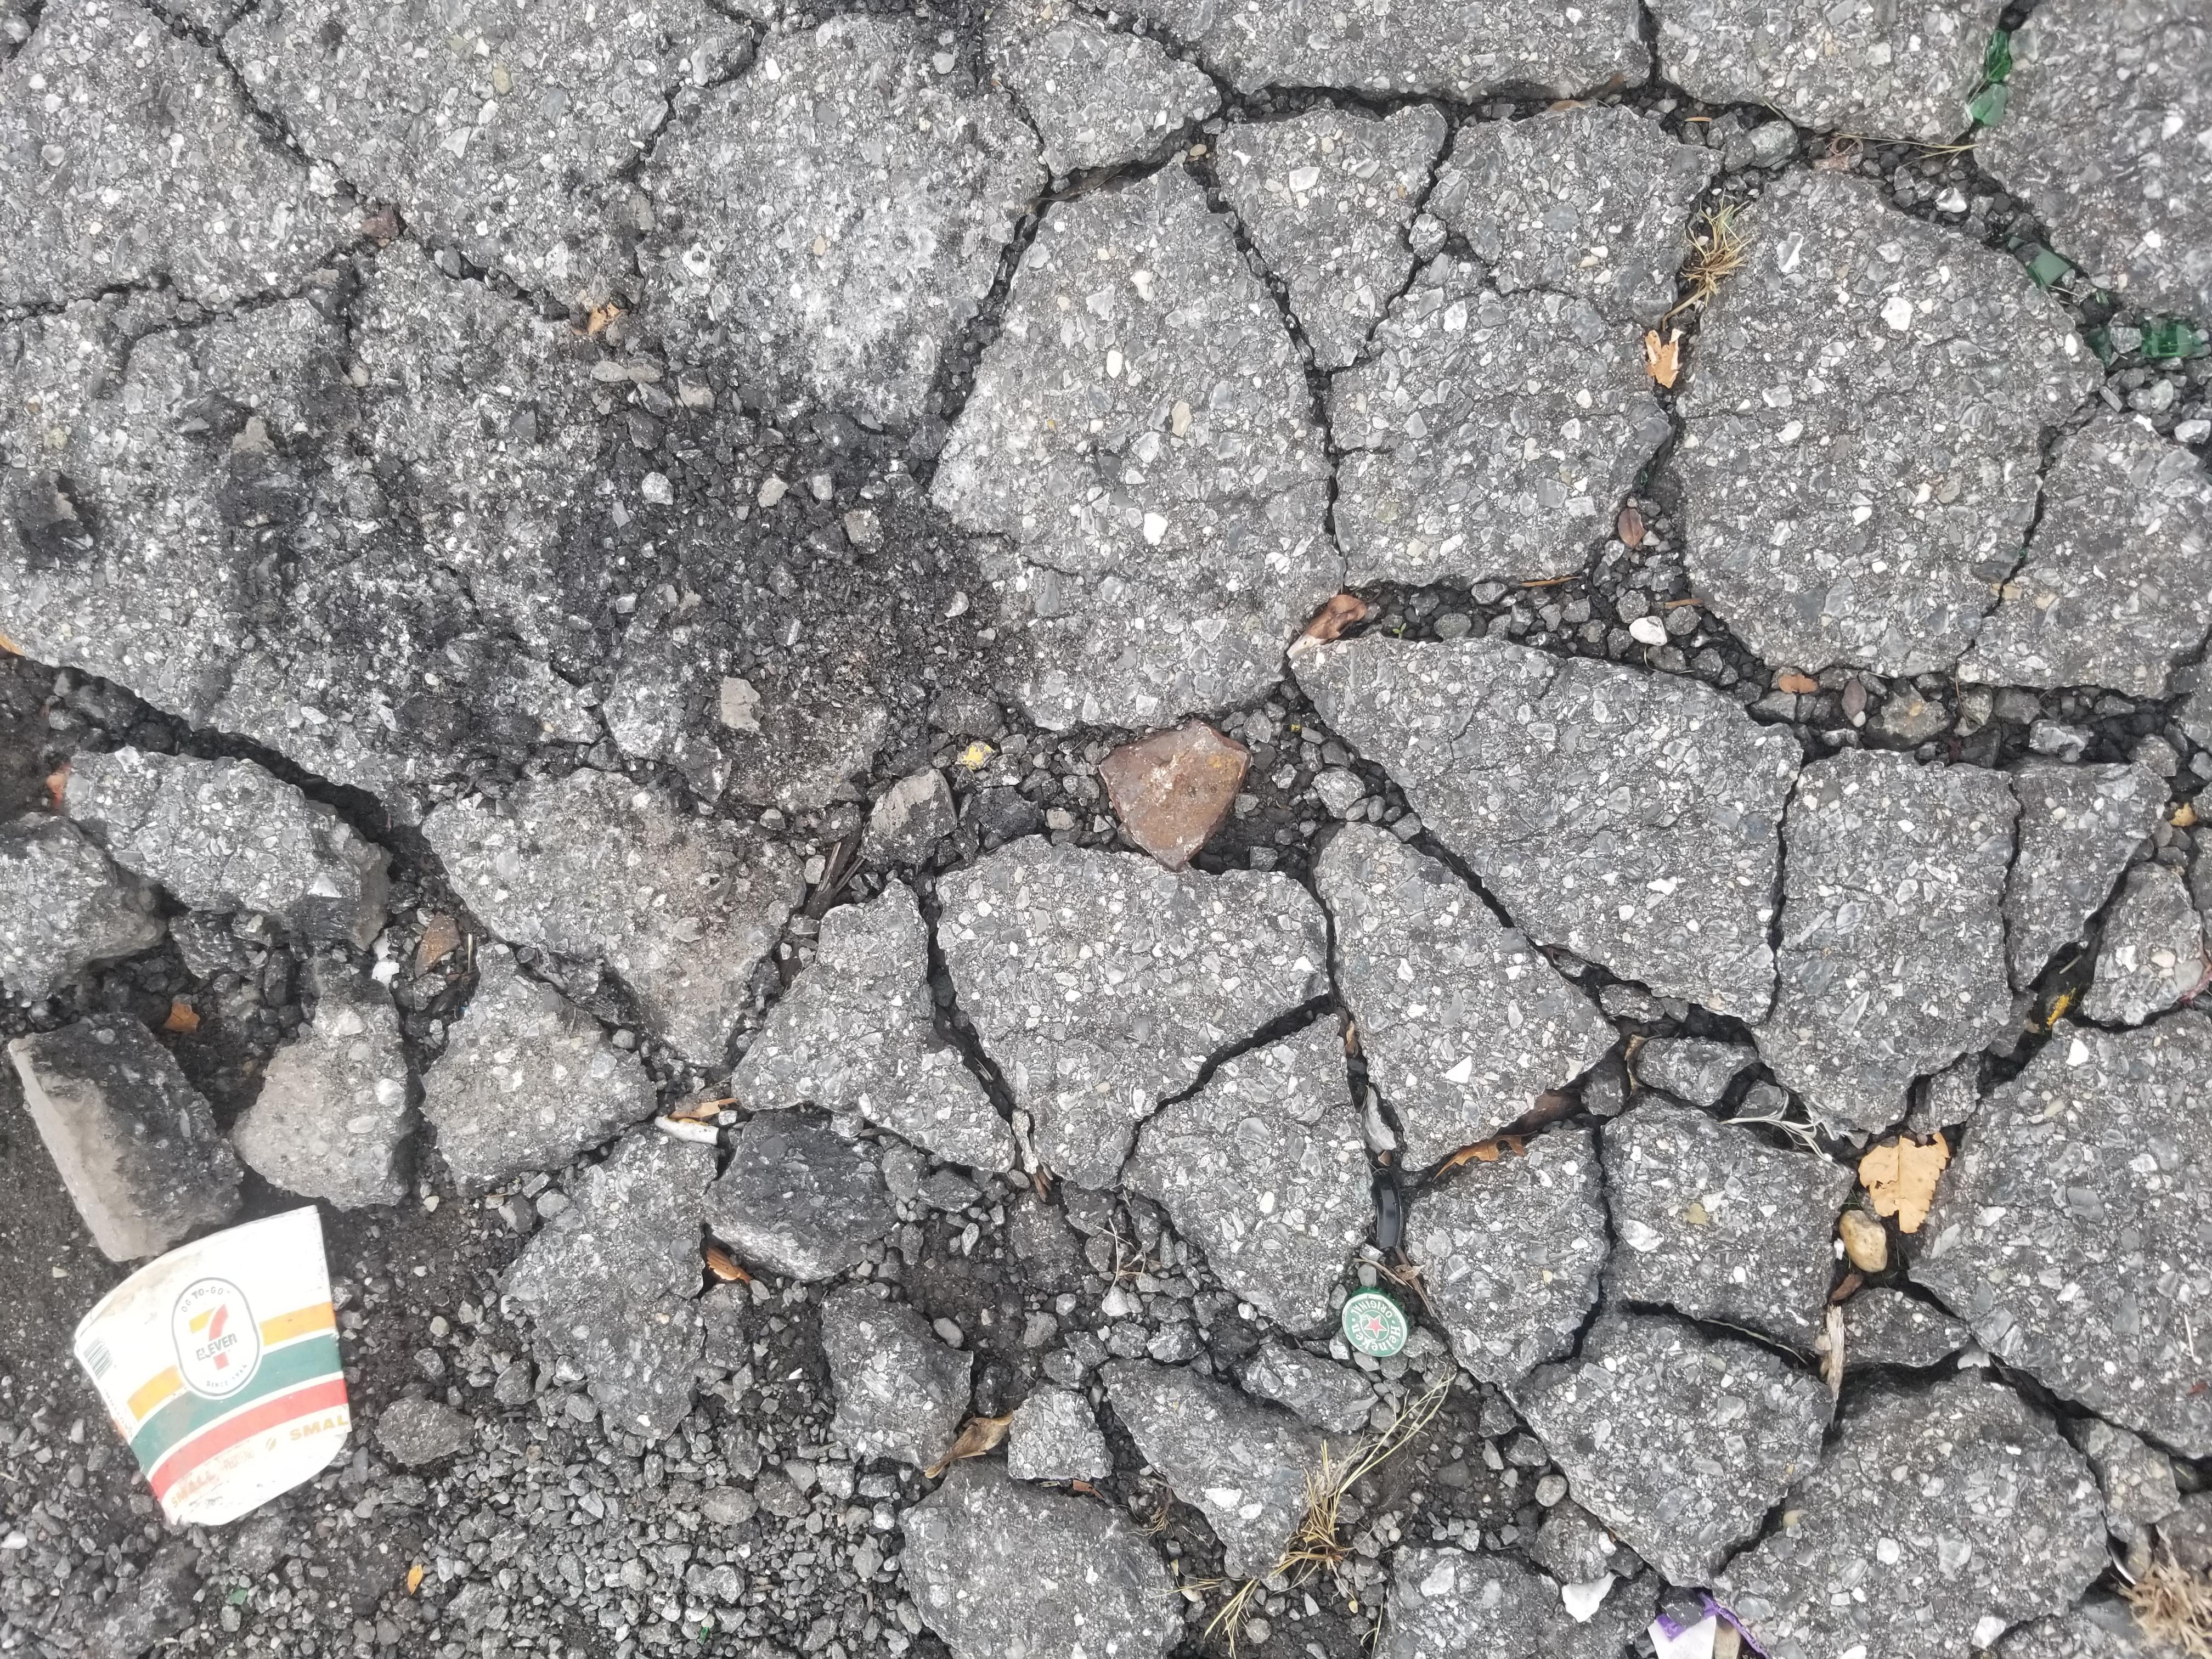alligator-crack: (167, 99, 2196, 1650)
